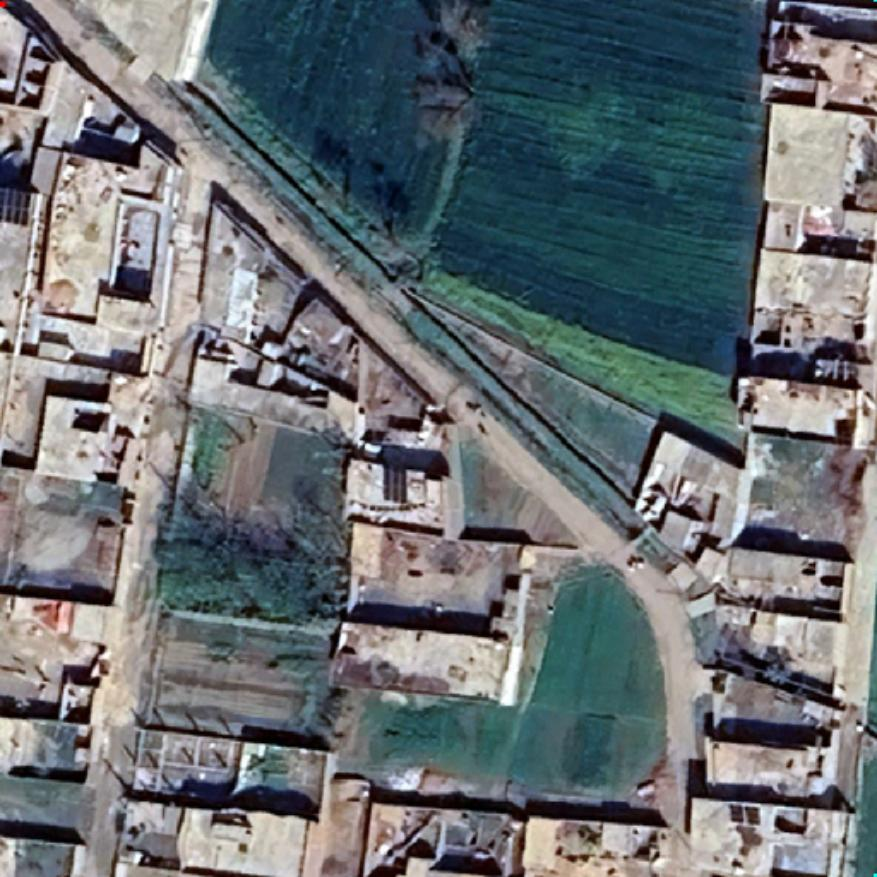Solarpanel: (0, 181, 40, 229), (380, 460, 412, 506), (726, 801, 762, 827)
